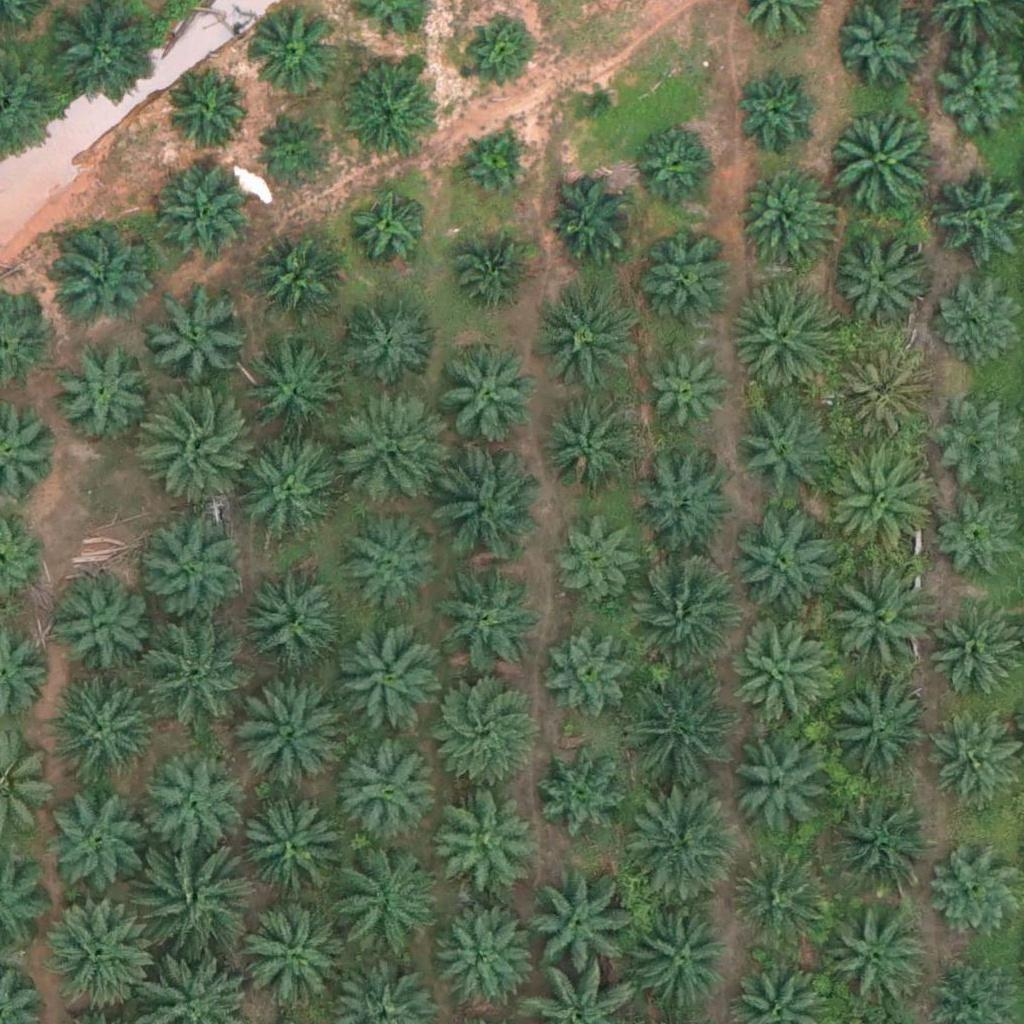Kelapa_Sawit: (331, 390, 444, 504), (133, 847, 246, 960), (423, 668, 536, 781), (330, 625, 443, 738), (41, 669, 154, 782), (623, 907, 735, 1021), (624, 551, 736, 665), (621, 669, 733, 783), (428, 446, 540, 560), (731, 281, 843, 394), (622, 792, 734, 905), (332, 846, 444, 959), (238, 899, 350, 1012), (42, 895, 154, 1008), (823, 447, 935, 560), (236, 674, 348, 787), (140, 619, 252, 732), (134, 509, 246, 622), (141, 389, 253, 502), (831, 2, 931, 103), (831, 115, 931, 216), (830, 227, 930, 328), (335, 68, 435, 169), (737, 167, 837, 268), (638, 235, 738, 336), (436, 348, 536, 449), (148, 285, 248, 386), (46, 224, 146, 325), (822, 906, 922, 1007), (732, 851, 832, 952), (440, 907, 540, 1008), (920, 601, 1020, 702), (827, 561, 927, 662), (829, 684, 929, 785), (735, 402, 835, 503), (733, 521, 833, 622), (633, 459, 733, 560), (530, 739, 630, 840), (429, 789, 529, 890), (338, 738, 438, 839), (337, 509, 437, 610), (236, 439, 336, 540), (240, 572, 340, 673), (235, 800, 335, 901), (144, 755, 244, 856), (51, 576, 151, 677), (44, 790, 144, 891), (834, 337, 934, 437), (536, 290, 636, 390), (151, 171, 251, 271), (50, 340, 150, 440), (523, 878, 623, 978), (832, 799, 932, 899), (735, 629, 835, 729), (729, 735, 829, 835), (543, 620, 643, 720), (539, 394, 639, 494), (434, 571, 534, 671), (339, 291, 439, 391), (246, 346, 346, 446), (932, 492, 1020, 581), (934, 49, 1022, 137), (935, 284, 1023, 372), (734, 68, 822, 156), (641, 355, 729, 443), (547, 173, 635, 261), (932, 394, 1020, 482), (555, 515, 643, 603), (251, 236, 338, 324), (447, 237, 534, 325), (631, 114, 718, 202), (246, 5, 333, 93), (164, 68, 251, 156), (349, 190, 424, 266), (455, 130, 530, 206), (461, 13, 536, 89), (259, 121, 334, 196), (572, 74, 622, 124)
